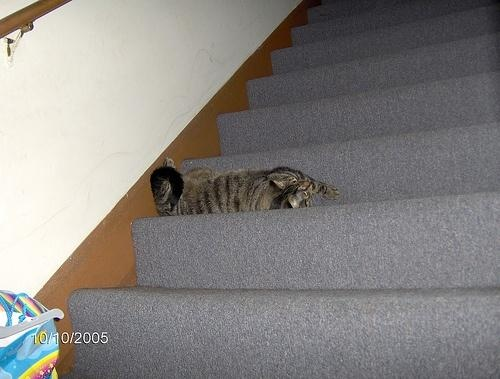cat: (150, 165, 342, 220)
